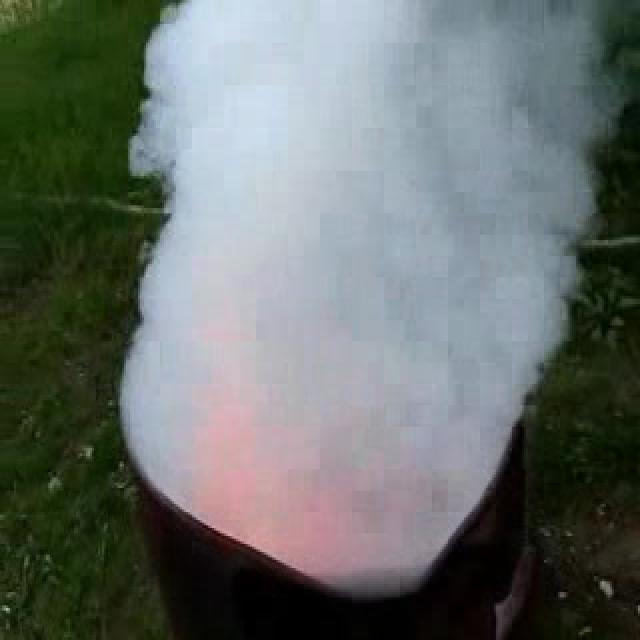Smoke: (116, 0, 631, 596)
